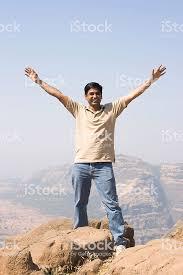Indian_Male: (85, 80, 104, 108)
